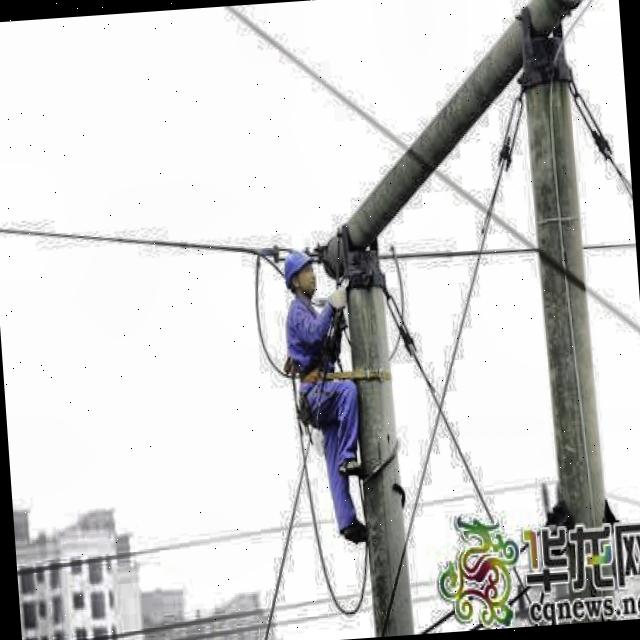helmet: (275, 242, 325, 303)
